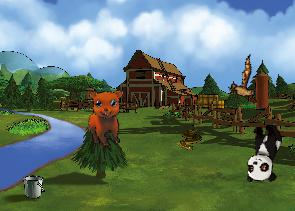bear: (81, 84, 134, 150)
eagle: (218, 54, 270, 112)
panda: (244, 121, 283, 184)
